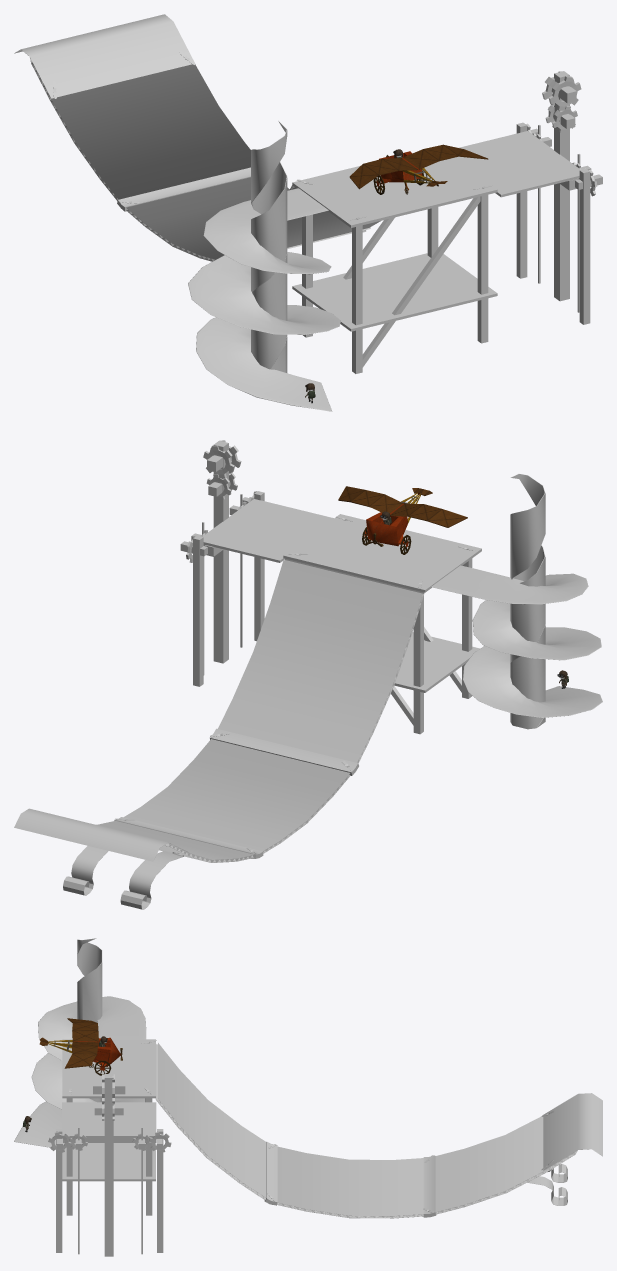
File: Rampe.FBX
3 renders of one model, top to bottom at view 1: azimuth 30°, elevation 25°; view 2: azimuth 150°, elevation 25°; view 3: azimuth 270°, elevation 25°, orthographic. The views are drawn at different scales.
Parts seen in each view (by area): view 1: Rampe, Pyramid001; view 2: Rampe, Pyramid001; view 3: Rampe, Pyramid001.
Boxes of the visible parts, bbox=[...] form: Rampe: bbox=[14, 14, 602, 411]; Pyramid001: bbox=[349, 144, 488, 194]; Rampe: bbox=[14, 440, 602, 909]; Pyramid001: bbox=[338, 486, 467, 554]; Rampe: bbox=[14, 938, 602, 1256]; Pyramid001: bbox=[39, 1018, 122, 1075].
Bounding box in the file's own units: 1149 × 718 × 1882.
